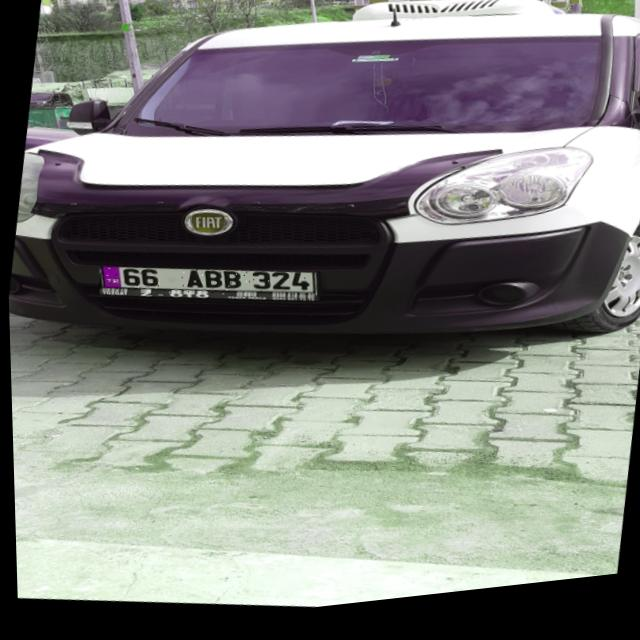plate: (96, 251, 316, 324)
